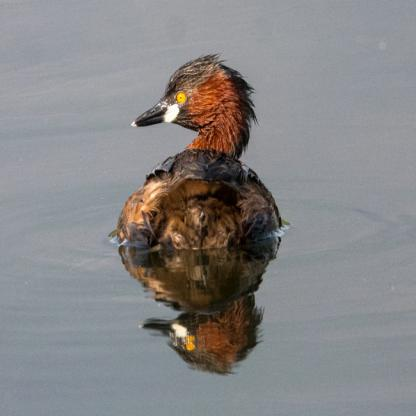Burung: (118, 57, 282, 258)
